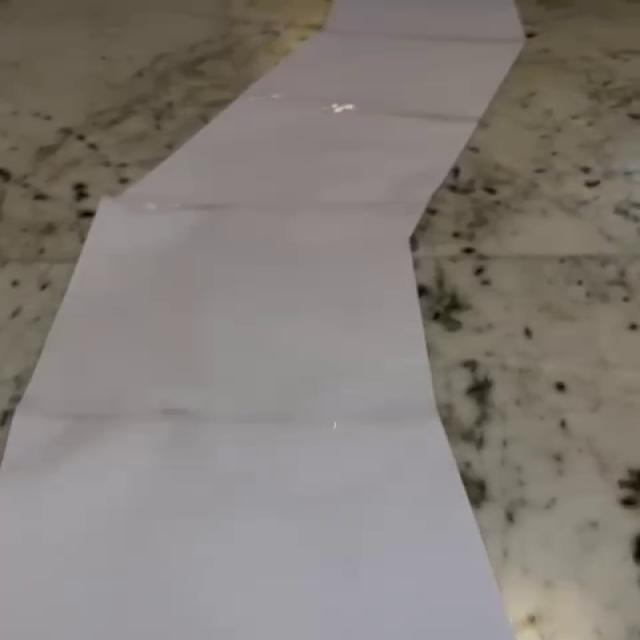road: (2, 0, 523, 640)
